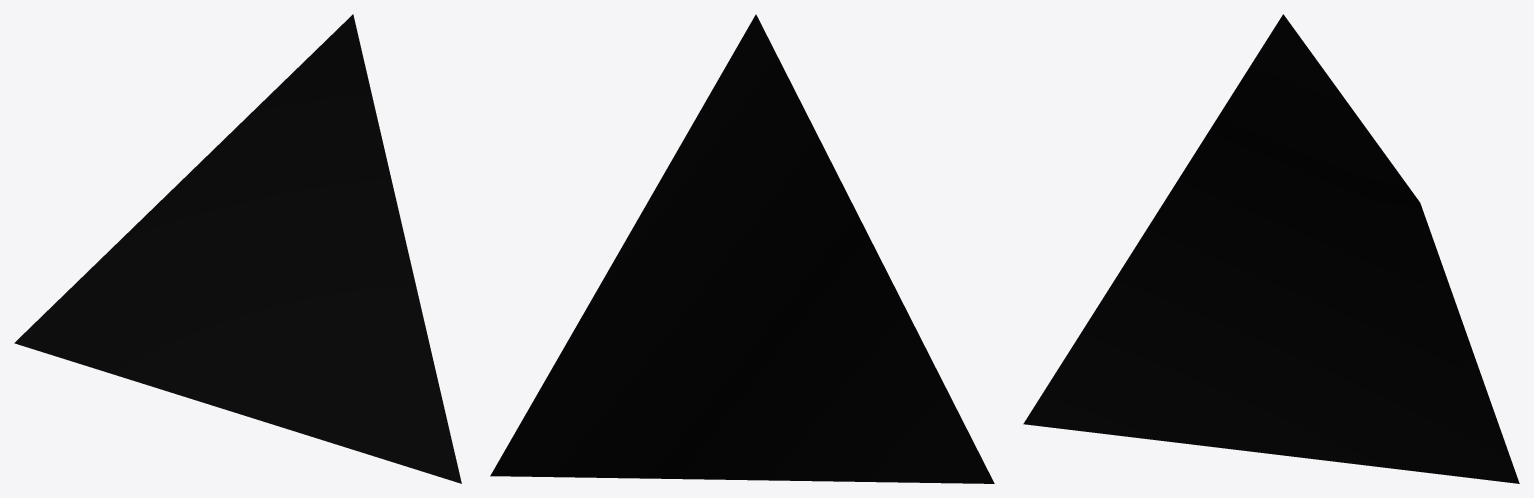
The model's file is blackrockpyramid.glb.
3 views of the same model, side by side, from view 1: azimuth 30°, elevation 25°; view 2: azimuth 150°, elevation 25°; view 3: azimuth 270°, elevation 25° (orthographic). The views are drawn at different scales.
Visible parts, largest first — view 1: Tetrahedron; view 2: Tetrahedron; view 3: Tetrahedron.
Part boxes in pixels (box(x1,y1,x2,y2)): Tetrahedron: box(14, 14, 461, 483); Tetrahedron: box(490, 14, 994, 483); Tetrahedron: box(1023, 14, 1519, 483).
Size of the model in its own units: 2.75 by 2.46 by 2.66.
1 material, 1 textured.
